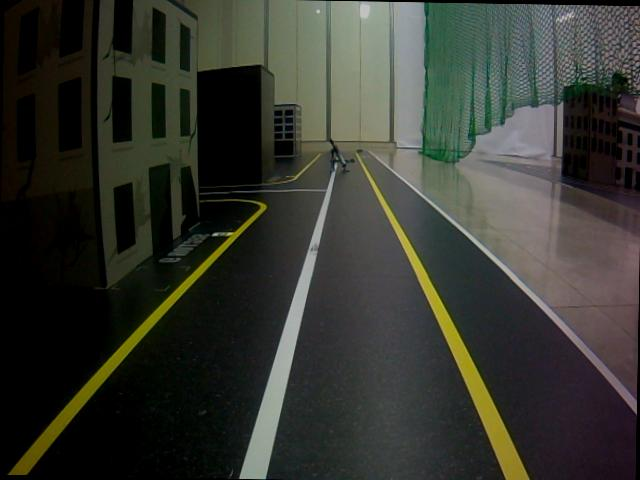Mortar: (327, 138, 350, 173)
